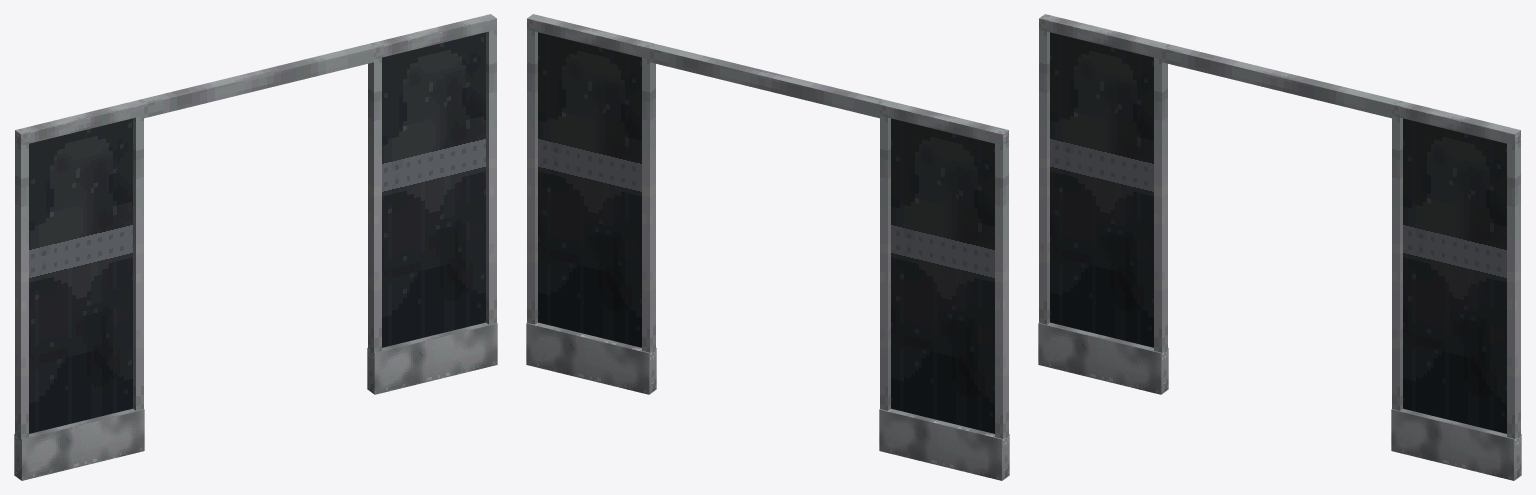
Rendered from storefront_entrance.glb.
3 views of the same model, side by side, from view 1: azimuth 30°, elevation 25°; view 2: azimuth 150°, elevation 25°; view 3: azimuth 330°, elevation 25° (orthographic).
Visible parts, largest first — view 1: storefront_entrance, storefront_entrance_r, storefront_entrance_head; view 2: storefront_entrance, storefront_entrance_r, storefront_entrance_head; view 3: storefront_entrance_r, storefront_entrance, storefront_entrance_head.
Boxes of the visible parts, left/top/right/bottom form: storefront_entrance: left=14, top=100, right=144, bottom=480; storefront_entrance_r: left=367, top=14, right=497, bottom=394; storefront_entrance_head: left=138, top=44, right=373, bottom=118; storefront_entrance: left=879, top=100, right=1009, bottom=480; storefront_entrance_r: left=526, top=14, right=656, bottom=394; storefront_entrance_head: left=650, top=44, right=885, bottom=118; storefront_entrance_r: left=1391, top=100, right=1521, bottom=480; storefront_entrance: left=1038, top=14, right=1168, bottom=394; storefront_entrance_head: left=1162, top=44, right=1397, bottom=118.
Bounding box in the file's own units: 3.6 × 2.5 × 0.1.
Materials: 3 (3 with a texture image).
